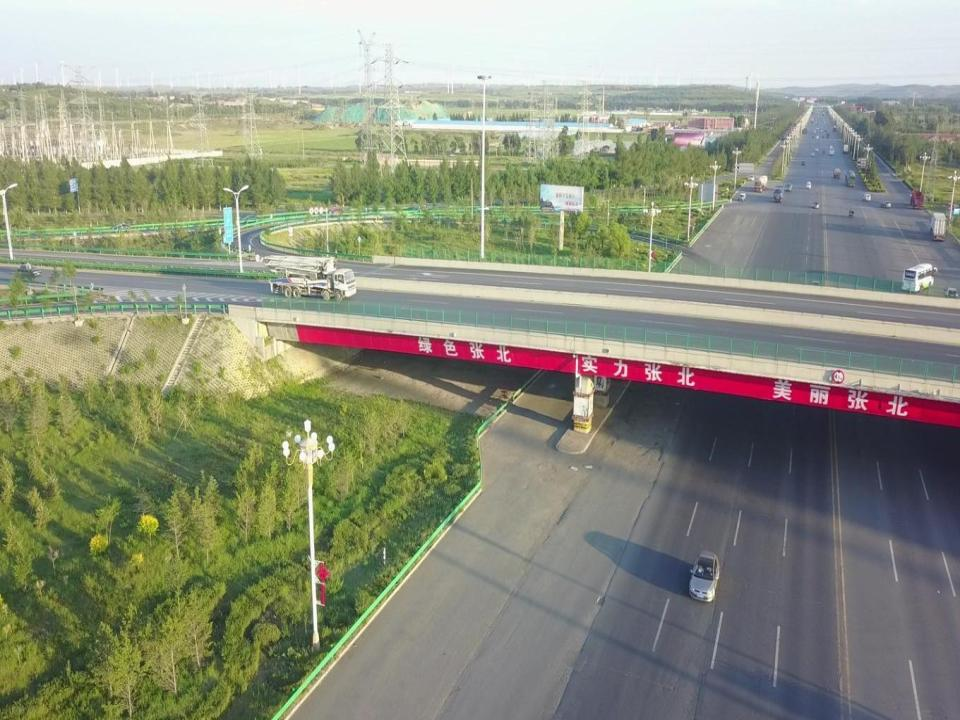bus: (904, 264, 940, 292)
car: (687, 550, 722, 604), (846, 168, 854, 188), (738, 190, 747, 203), (774, 190, 782, 200), (833, 169, 839, 180), (885, 198, 890, 210), (865, 191, 870, 201), (788, 184, 792, 191), (814, 200, 816, 208)
truck: (270, 262, 359, 300), (933, 211, 946, 240), (752, 173, 769, 189), (913, 189, 923, 208)
